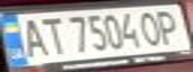0: (103, 11, 124, 51)
4: (118, 9, 142, 48)
5: (84, 11, 109, 52)
7: (63, 12, 90, 53)
A: (12, 15, 51, 58)
O: (136, 8, 166, 47)
P: (151, 7, 187, 45)
T: (33, 15, 69, 56)
